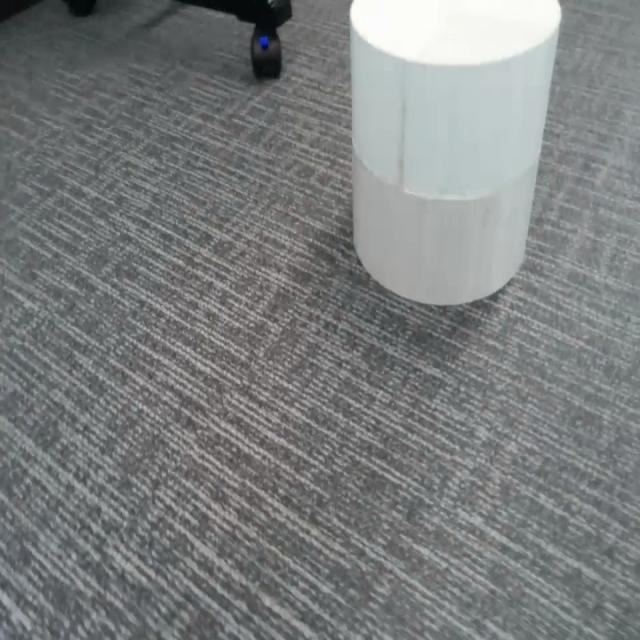cylinder: (350, 0, 562, 307)
